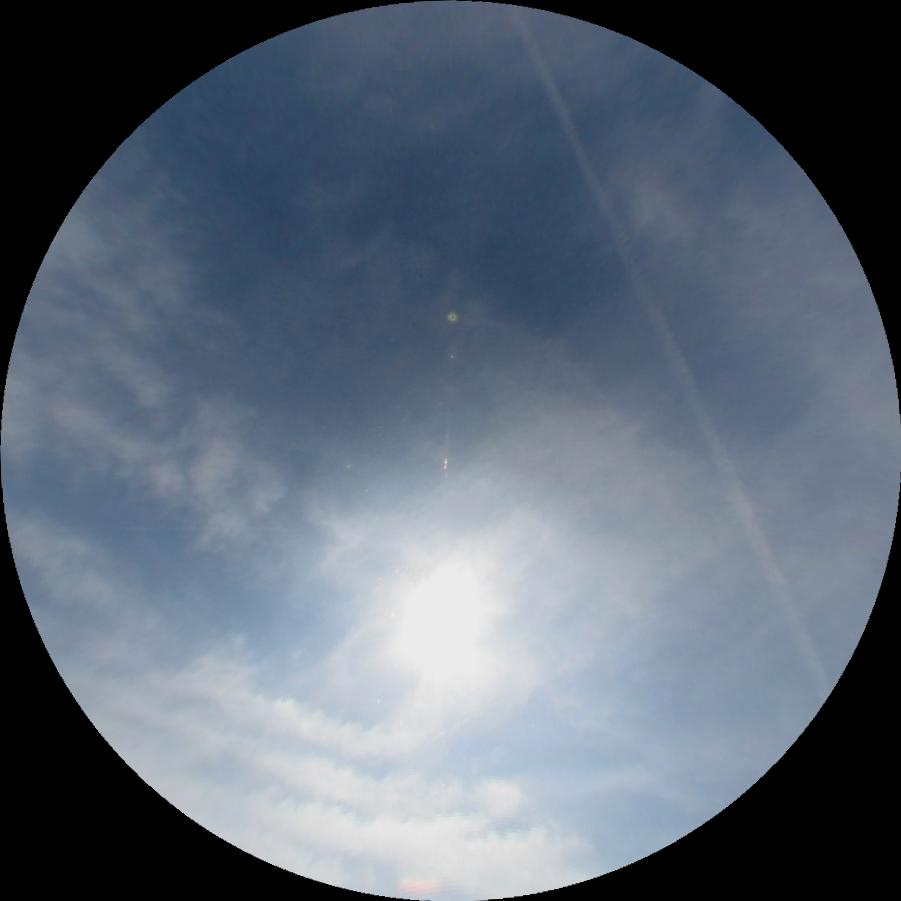contrail old: (501, 0, 837, 707)
sun: (398, 561, 486, 670)
